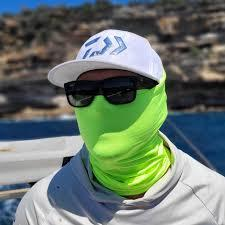cap: (39, 24, 168, 86)
scarf-kerchief: (68, 82, 182, 198)
sunglasses: (60, 77, 140, 109)
